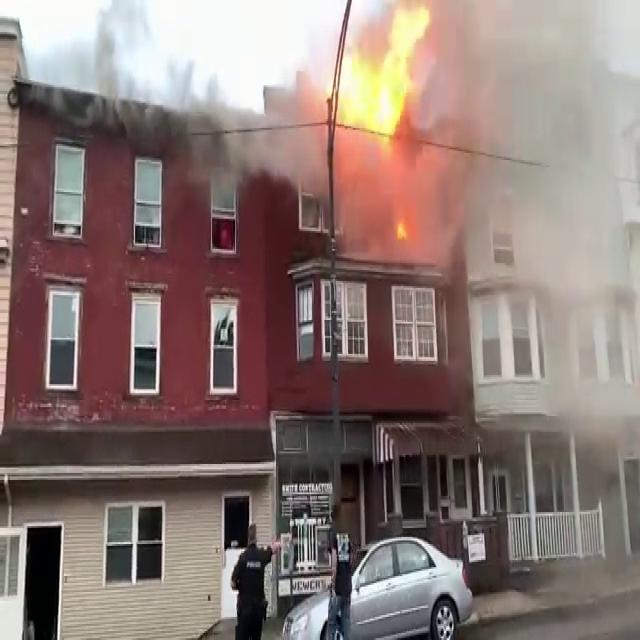Fire: (323, 0, 438, 142)
Smoke: (426, 0, 640, 430), (29, 0, 335, 180)
